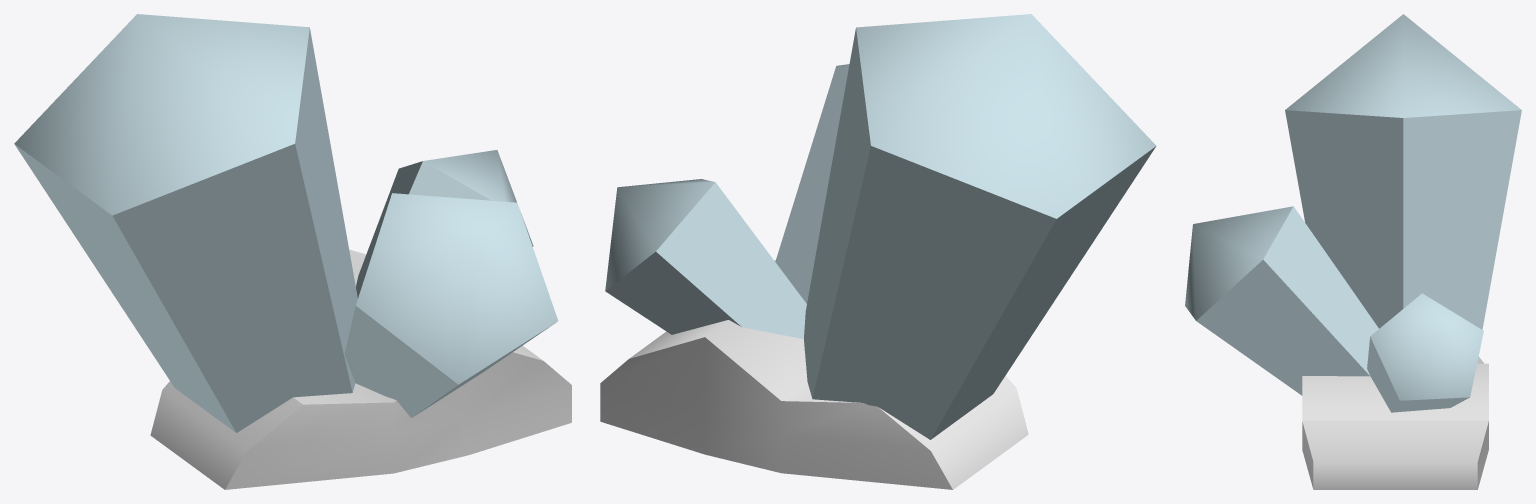
File: ice_crystal.fbx
3 views of the same model, side by side, from view 1: azimuth 30°, elevation 25°; view 2: azimuth 150°, elevation 25°; view 3: azimuth 270°, elevation 25° (orthographic). The views are drawn at different scales.
Visible parts, largest first — view 1: crystal, base; view 2: crystal, base; view 3: crystal, base.
Part boxes in pixels (x1,y1,x2,y2): crystal: (14, 14, 558, 432); base: (150, 249, 571, 489); crystal: (605, 14, 1156, 439); base: (600, 260, 1028, 489); crystal: (1185, 14, 1521, 412); base: (1302, 356, 1488, 489).
Bounding box in the file's own units: 2.11 × 1.96 × 1.77.
